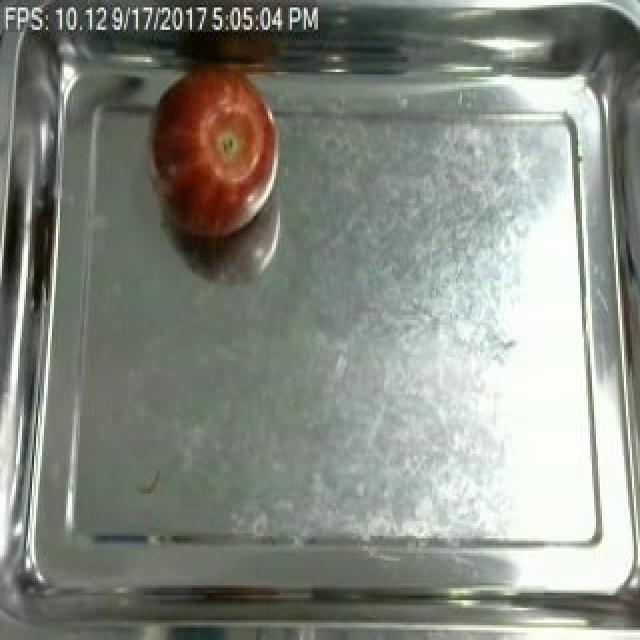Fresh Apple: (145, 61, 292, 262)
